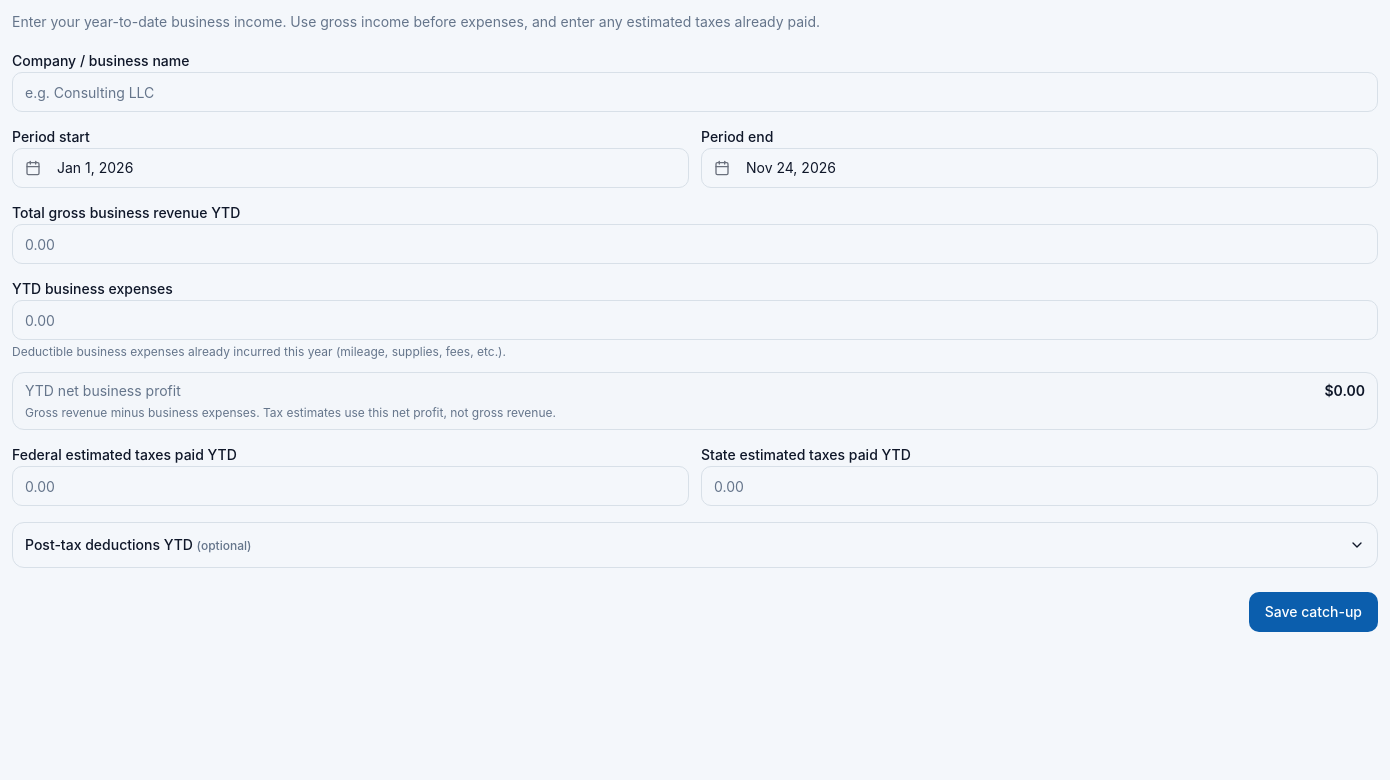
Test: YtdCatchupForm — 1099-only business expenses & net profit › shows business expenses field and computes net profit (85000 - 18000 = 67000)
Later steps or results of the test are not shown.
In the field with test id "ytd-catchup-company-name": (695, 92) [12,72,1378,112], type "Consulting LLC"
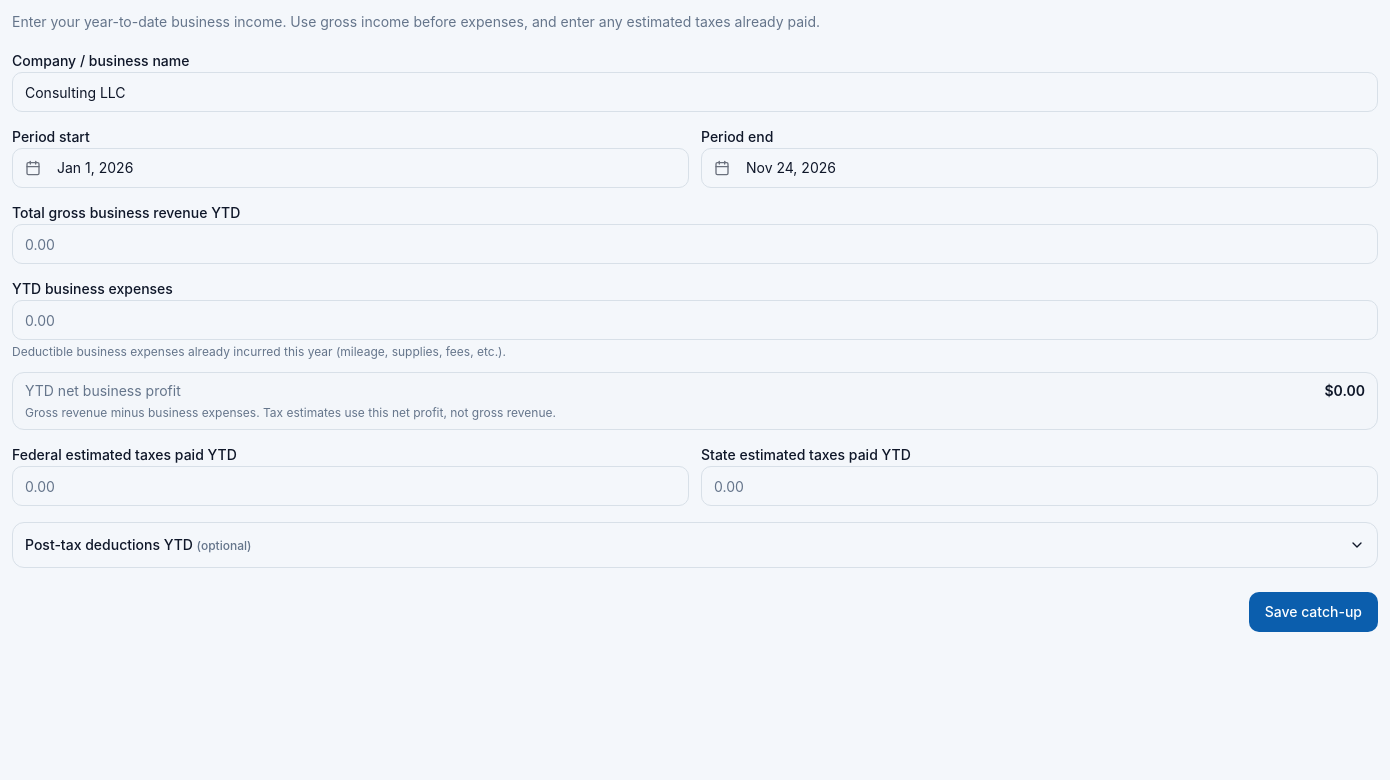
In the number field with test id "ytd-catchup-gross-income": (695, 244) [12,224,1378,264], type "85000"
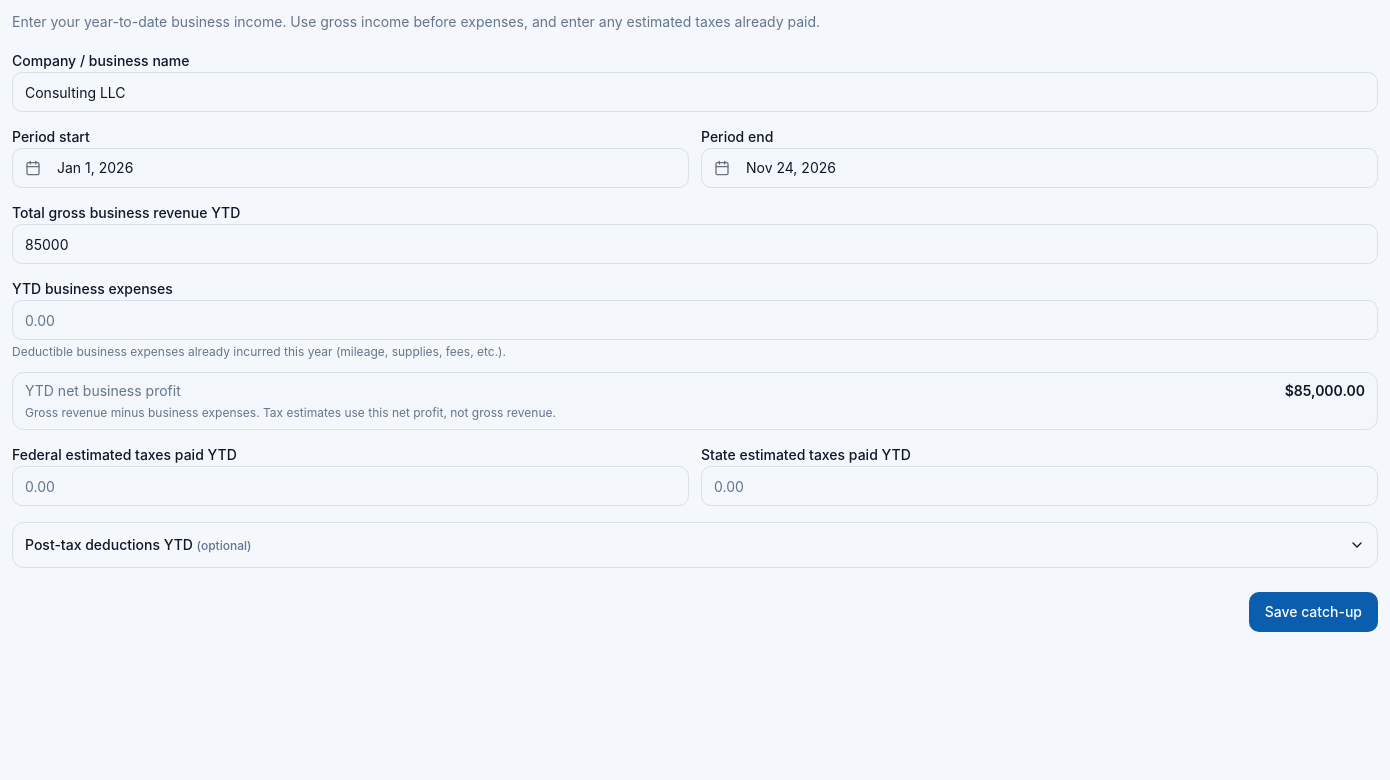
In the number field with test id "ytd-catchup-business-expenses": (695, 320) [12,300,1378,340], type "18000"
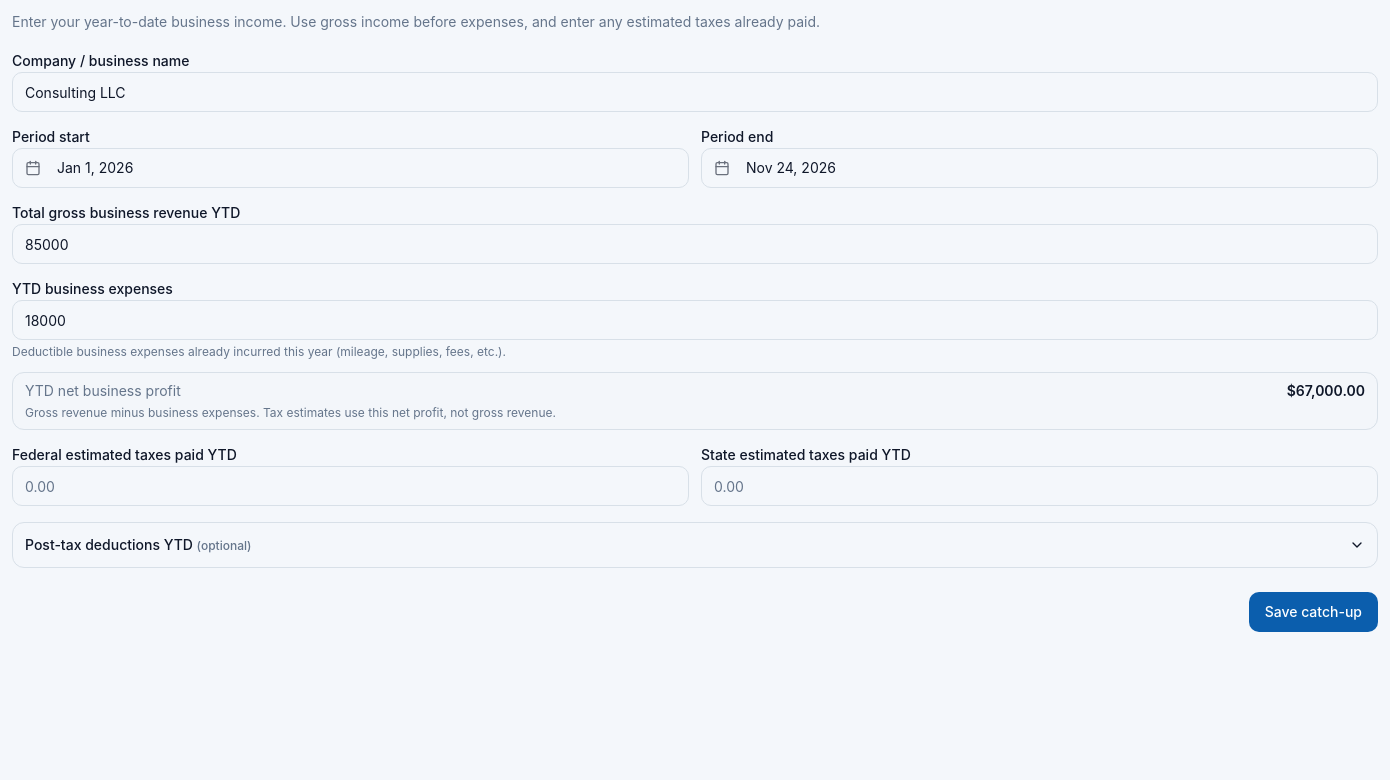
Check: the text with test id "ytd-catchup-net-profit" shows "$67,000", box [1287,382,1365,399]
